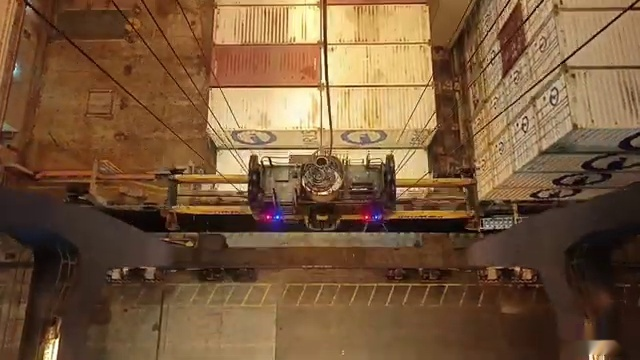container: (207, 84, 442, 147), (215, 147, 434, 202), (206, 43, 438, 85)
guide_mark: (96, 283, 540, 306), (62, 344, 561, 360)
spreader: (163, 148, 490, 231)
target_slot: (208, 84, 439, 148)
